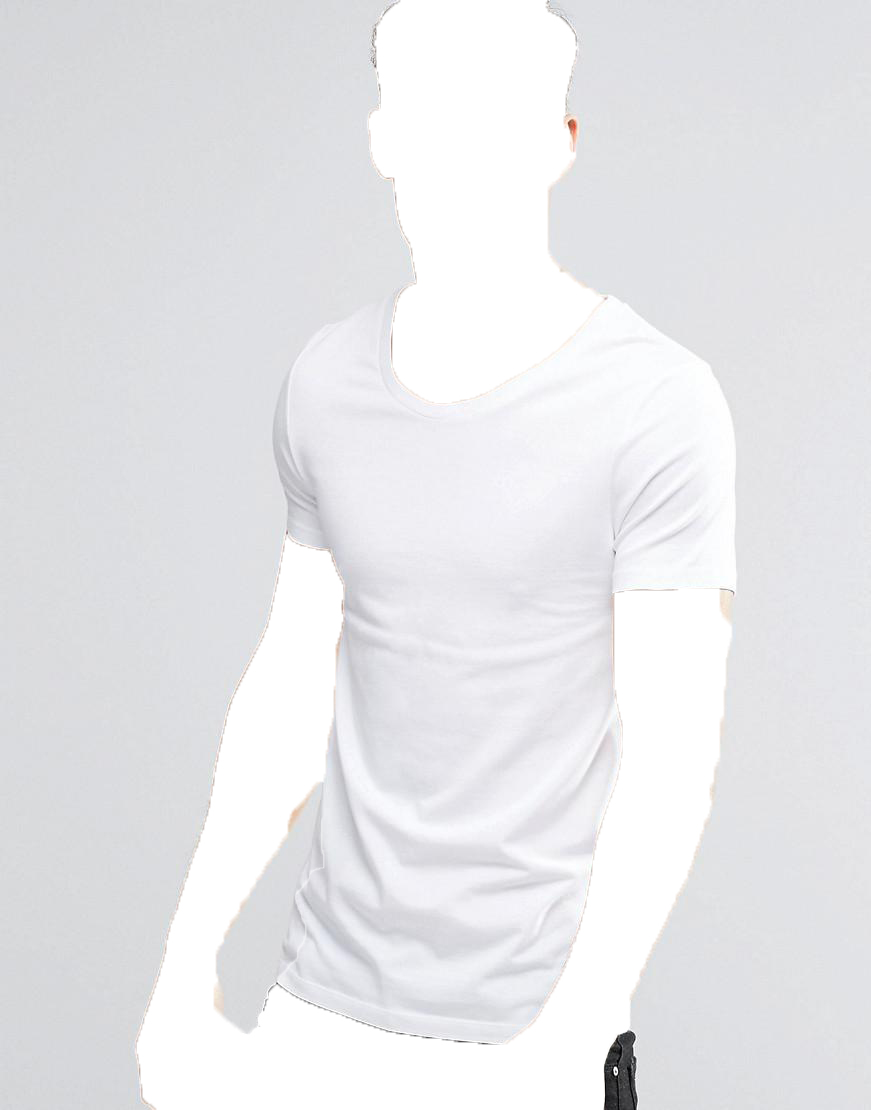teeshirt: (251, 268, 751, 1052)
